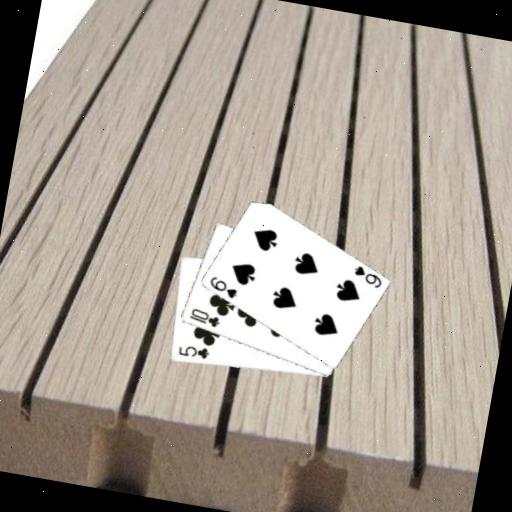10C: (184, 304, 222, 330)
5C: (175, 340, 211, 362)
6S: (349, 261, 385, 290), (204, 272, 240, 300)
